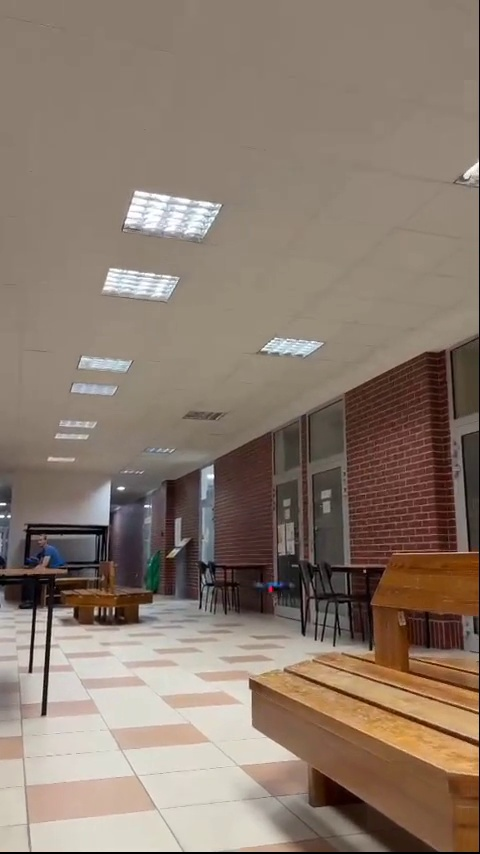drone: (252, 572, 295, 596)
no vest: (32, 526, 63, 592)
